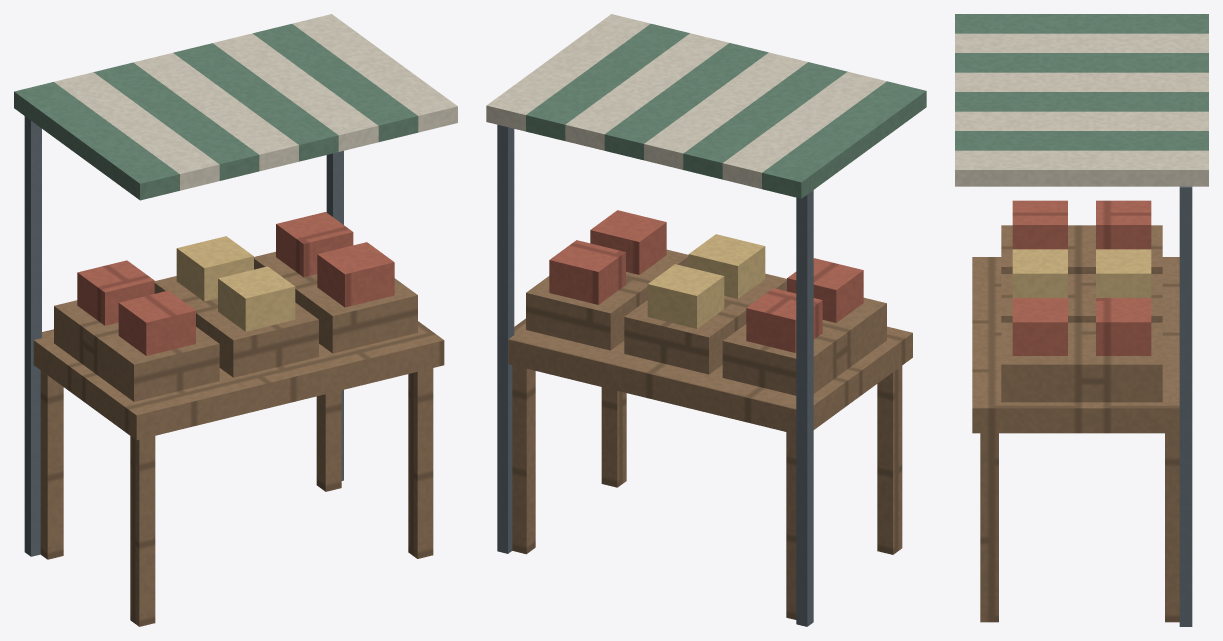
File: q03-stall.glb
The picture shows the model from 3 angles, left to right: view 1: azimuth 30°, elevation 25°; view 2: azimuth 150°, elevation 25°; view 3: azimuth 270°, elevation 25°; orthographic projection.
Size of the model in its own units: 1.6 by 2.19 by 1.1.
6 materials, 6 textured.
